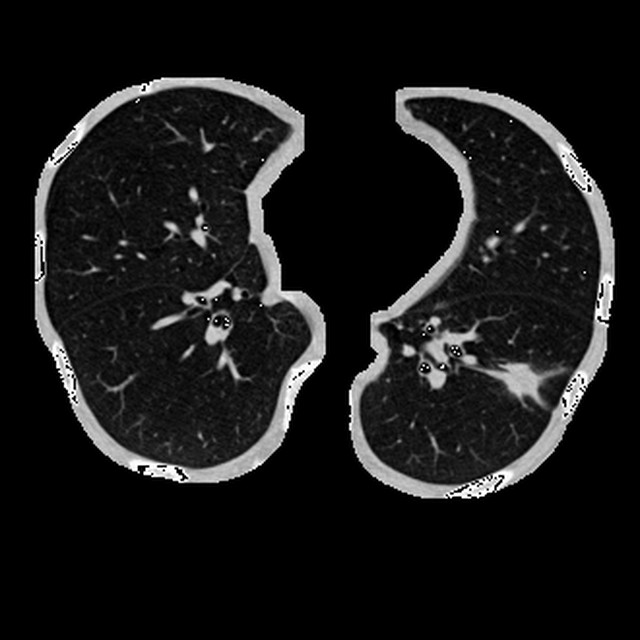PN: (502, 359, 541, 398)
